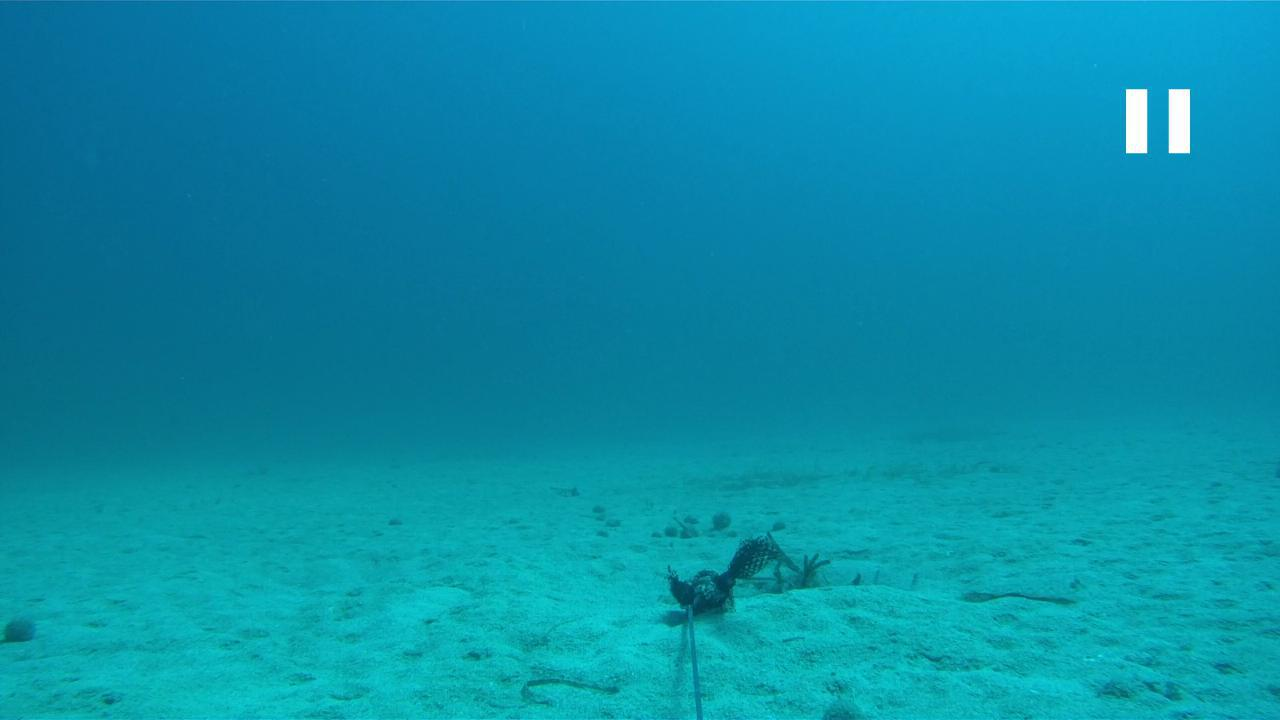bothus: (957, 570, 1090, 608)
